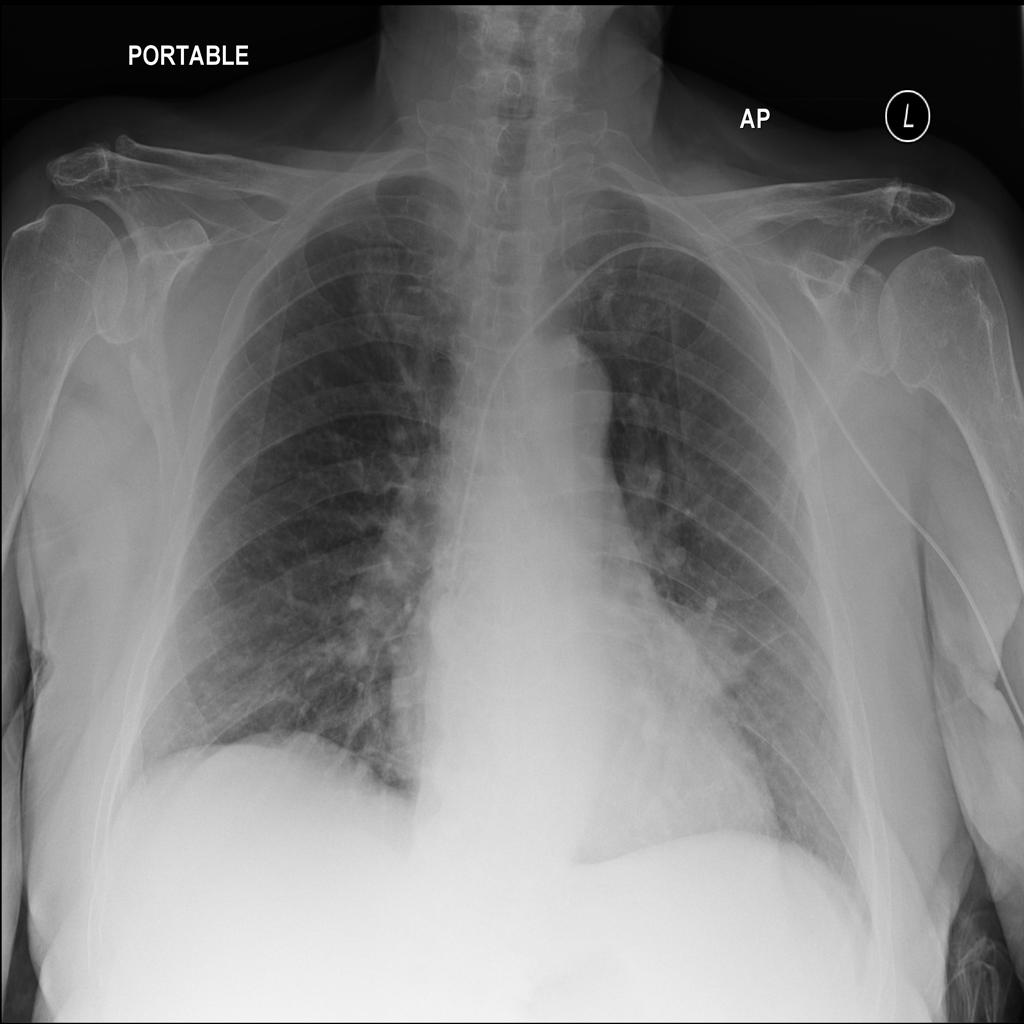nodule: (650, 584, 759, 716)
